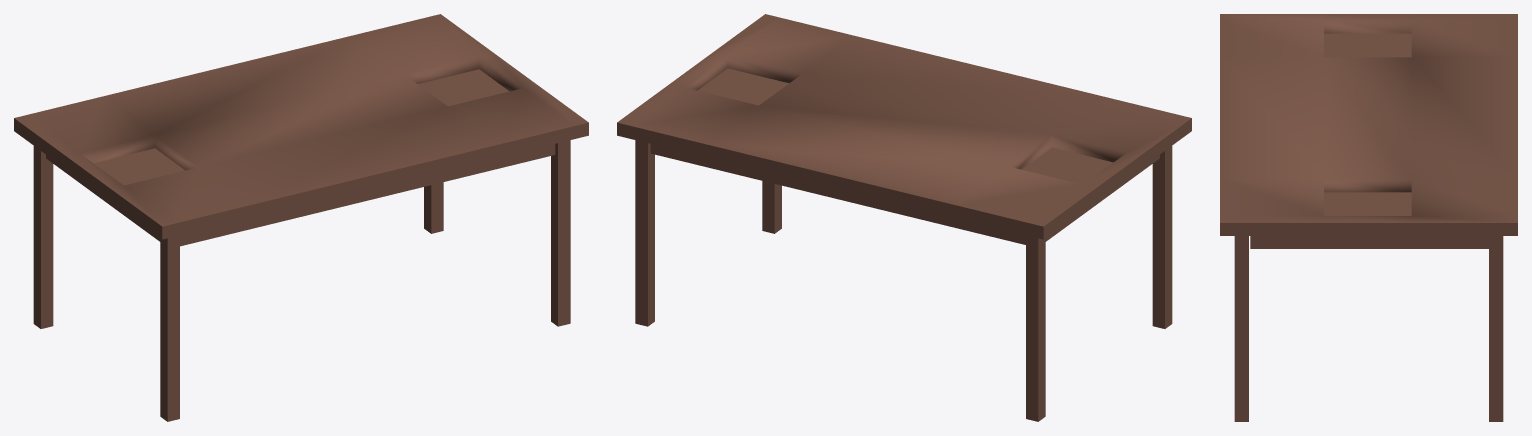
File: table.fbx
3 renders of one model, left to right at view 1: azimuth 30°, elevation 25°; view 2: azimuth 150°, elevation 25°; view 3: azimuth 270°, elevation 25°, orthographic.
Visible parts, largest first — view 1: model; view 2: model; view 3: model.
Boxes of the visible parts, <box> form: model: <box>14,14,588,421</box>; model: <box>617,14,1191,421</box>; model: <box>1220,14,1517,421</box>.
Size of the model in its own units: 171 by 78 by 103.
